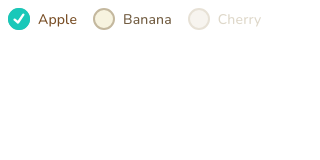
Scenario: Checkbox › uncontrolled 模式 › 点击未选中项 → 添加到选中集合并触发 onChange
Click the checkbox labelled "Banana" at (104, 19), box top-left (93, 8), bottom-right (115, 30)
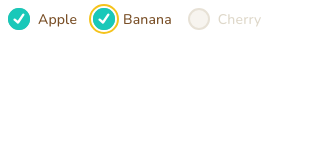
Expected: the checkbox labelled "Banana" is checked, top-left (93, 8), bottom-right (115, 30)
